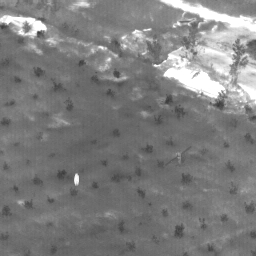Target: (72, 171, 81, 186)
